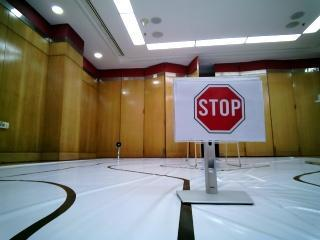stop: (180, 79, 260, 136)
